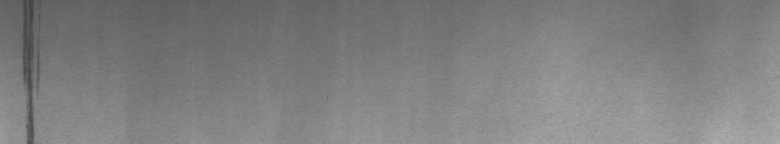hd: (17, 4, 43, 136)
